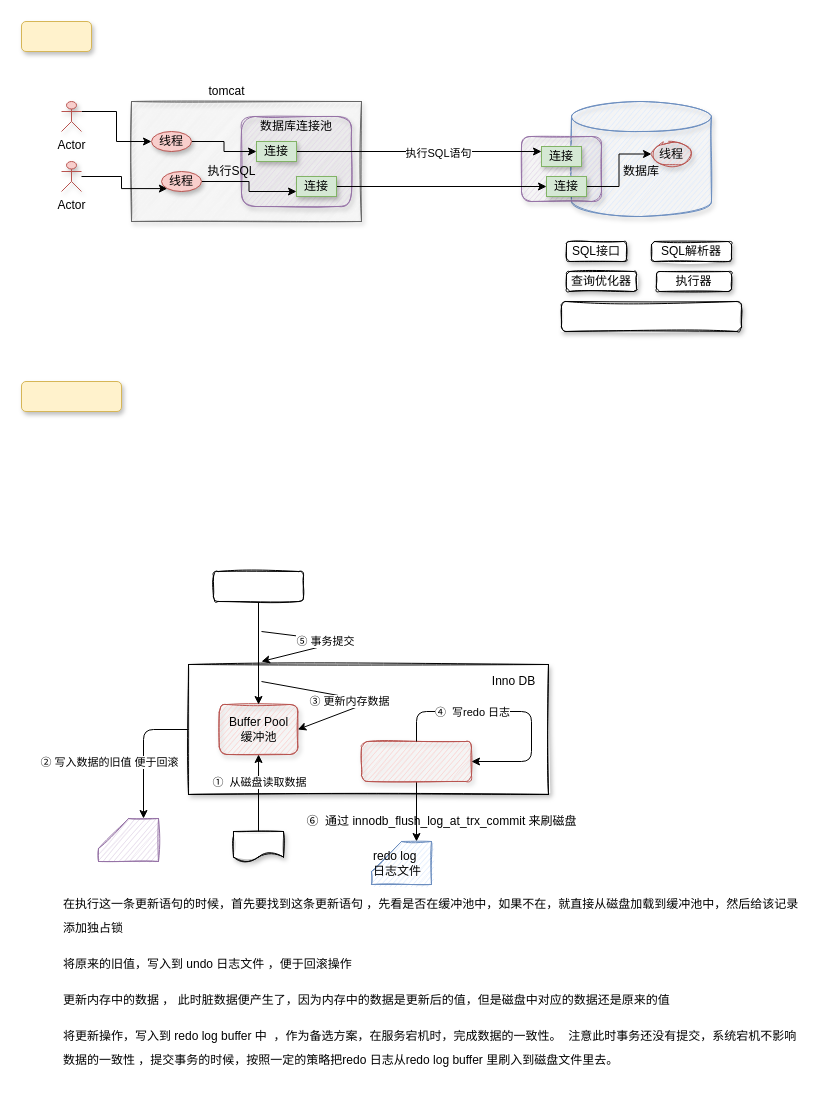
Some shapes in this 819 by 1101 pixel diagram are drawn without their labels. The shapes that lost their labels are listed below. From the top down, each one's centre as x and y in pixels, then its label:
At [57,37]: "架构设计".
At [652,317]: "执行引擎".
At [72,397]: "InnoDB 架构设计".
At [258,586]: "更新语句".
At [417,762]: "Redo Log Buffer".
At [128,840]: "undo 日志文件".
At [259,847]: "磁盘".
